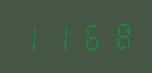eight: (105, 18, 133, 50)
one: (47, 20, 75, 53), (18, 22, 46, 54)
six: (76, 19, 104, 51)
